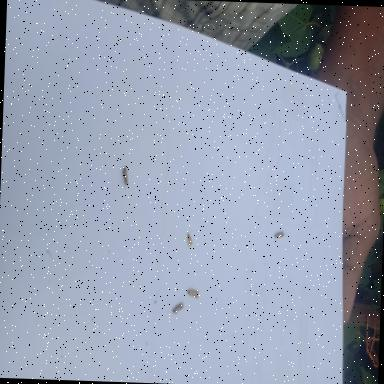pbw: (184, 229, 194, 245), (122, 166, 129, 184), (172, 302, 184, 312), (187, 288, 199, 297), (274, 231, 284, 238)
